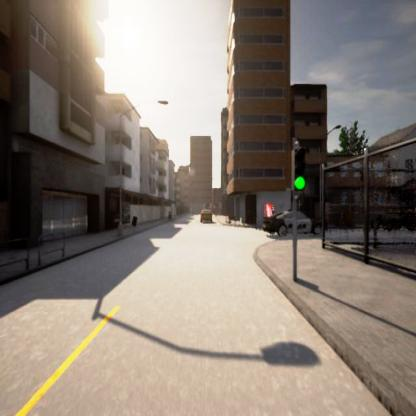vehicle: (263, 209, 319, 236), (200, 208, 212, 223)
